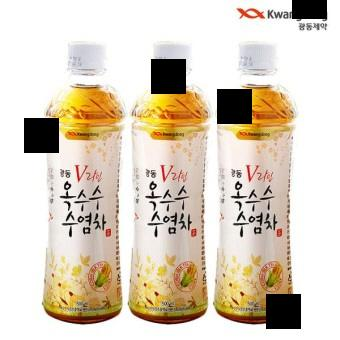oksususuyeomcha: (38, 37, 125, 324), (129, 39, 210, 321), (217, 42, 295, 326)
